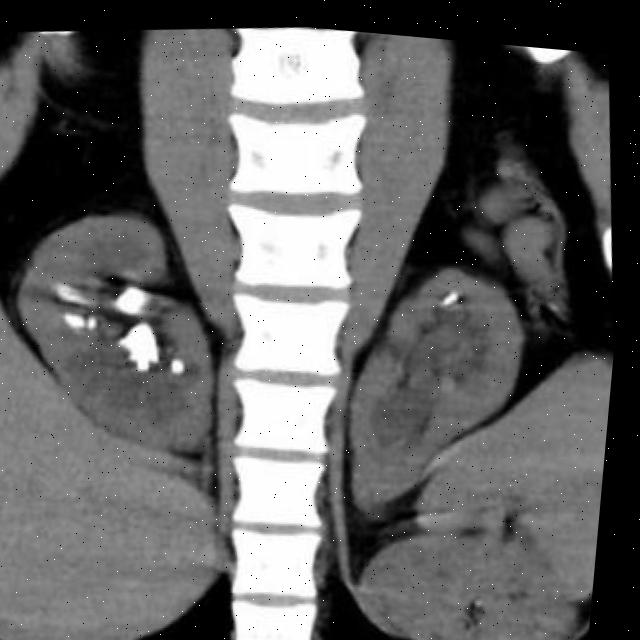Tas_Var: (117, 310, 173, 375), (117, 274, 158, 318), (174, 347, 196, 375), (68, 307, 89, 329), (88, 310, 105, 332), (450, 282, 463, 294), (446, 286, 456, 298)
